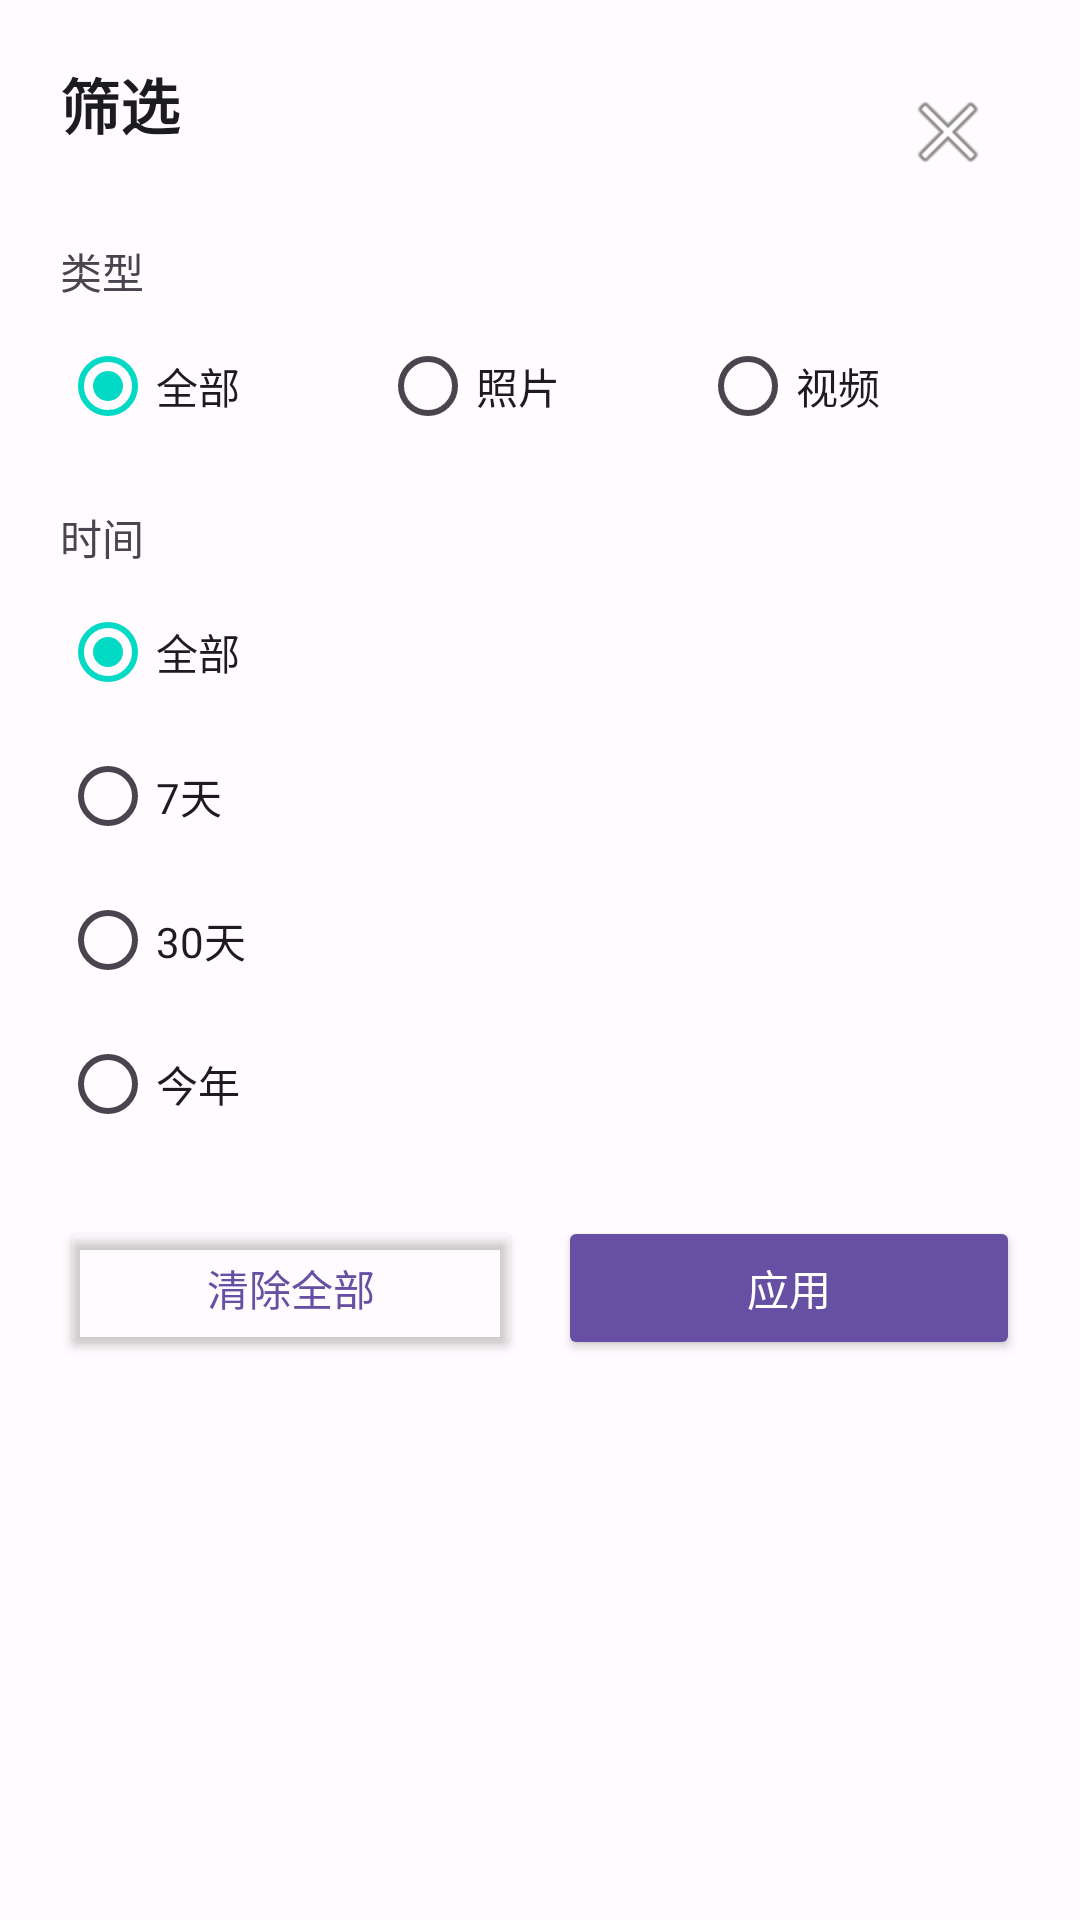

Icon bounding boxes for this 1080*1920 phone screenshot, format box=[x1, y1, x2, y2]:
关闭: box=[918, 102, 978, 162]
